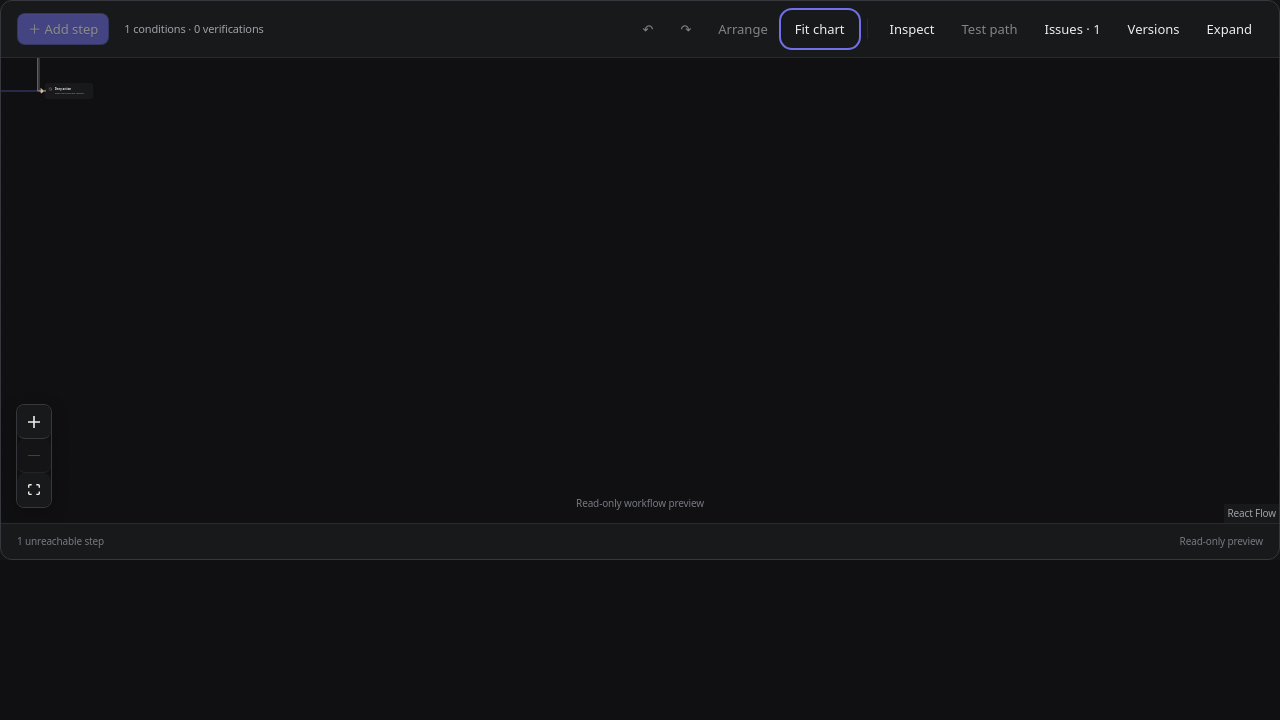
workflow authoring › inspects published routes on the canvas without a duplicate steps list
Click the button "Inspect": (912, 29) [879,13,946,45]
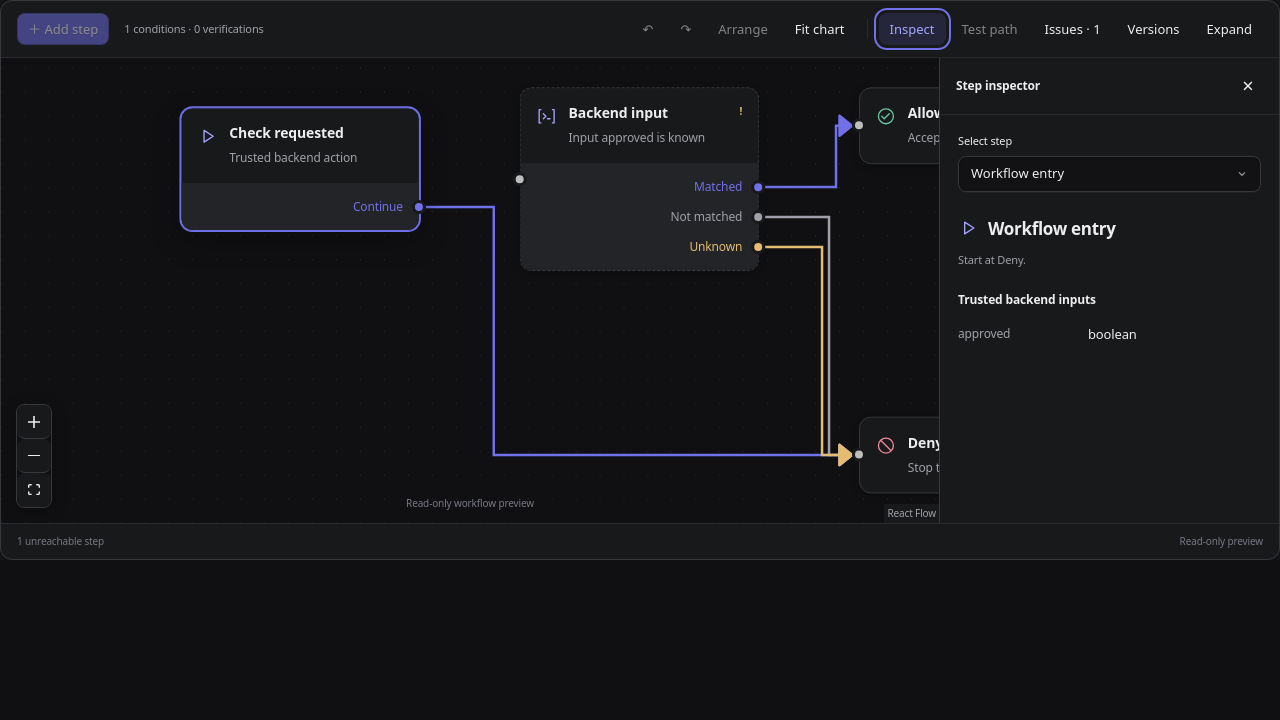
Select "Step 1 · Backend input" in the dropdown labelled "Select step": (1110, 174) [958,156,1261,192]
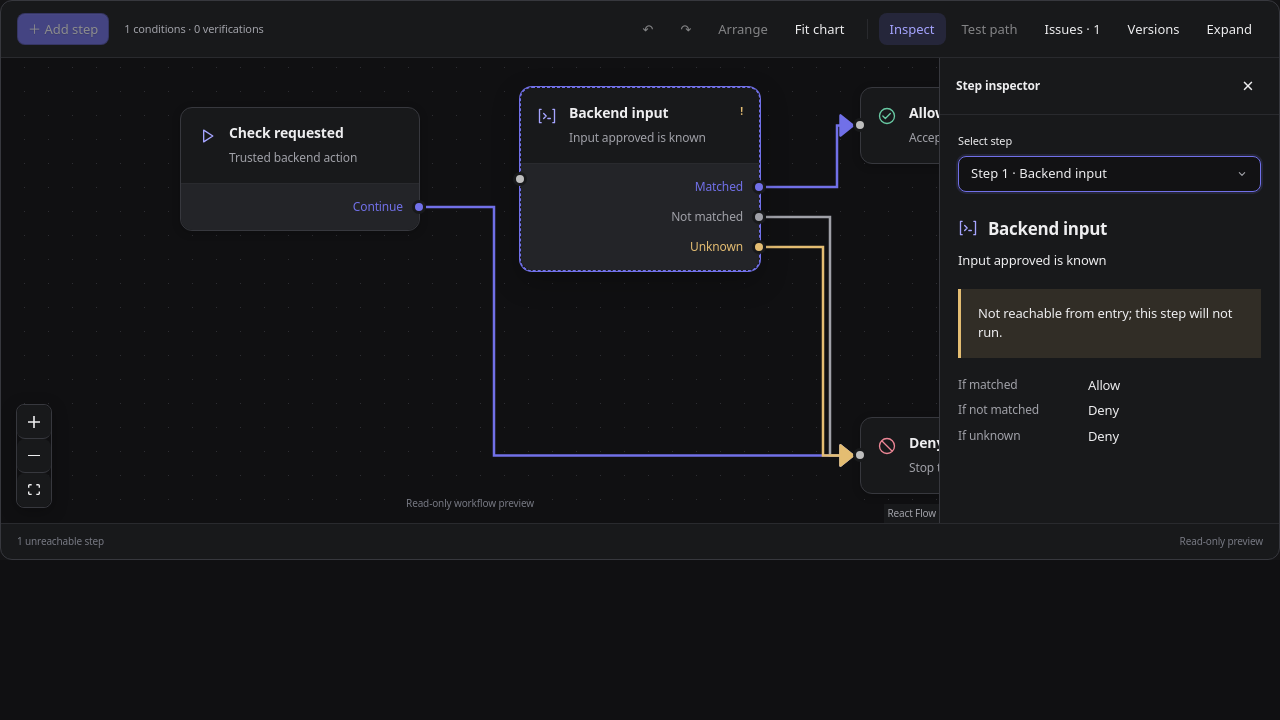
Expected: the button "＋ Add step" is disabled, [17,13,109,45]
Expected: the text "Not reachable from entry; this step will not run." is shown, [958,288,1261,358]
Expected: the text "If not matched" is shown, [958,401,1039,418]
